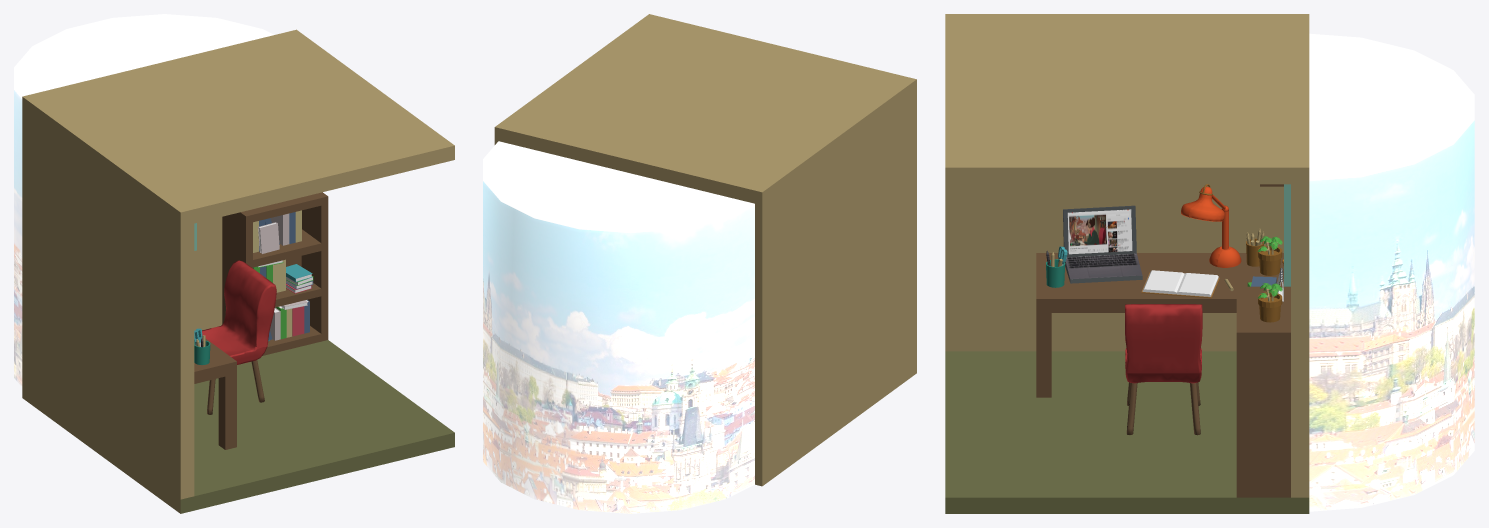
The model's file is lo-fi_study_girlroom.glb.
3 renders of one model, left to right at view 1: azimuth 30°, elevation 25°; view 2: azimuth 150°, elevation 25°; view 3: azimuth 270°, elevation 25°, orthographic. The views are drawn at different scales.
Visible parts, largest first — view 1: 3DSMeshMatrix (×8); view 2: 3DSMeshMatrix (×2); view 3: 3DSMeshMatrix (×15).
Boxes of the visible parts, <box> form: 3DSMeshMatrix (×8): <box>14,14,454,513</box>; 3DSMeshMatrix (×2): <box>483,14,916,513</box>; 3DSMeshMatrix (×15): <box>945,14,1474,513</box>.
Bounding box in the file's own units: 20 × 21 × 29.08.
26 materials, 4 textured.
